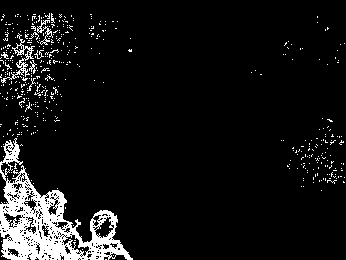person: (33, 186, 86, 260), (1, 138, 42, 230), (77, 206, 136, 260)
